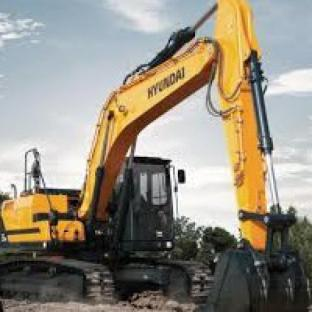ExcavationMachinery: (8, 50, 307, 308)
